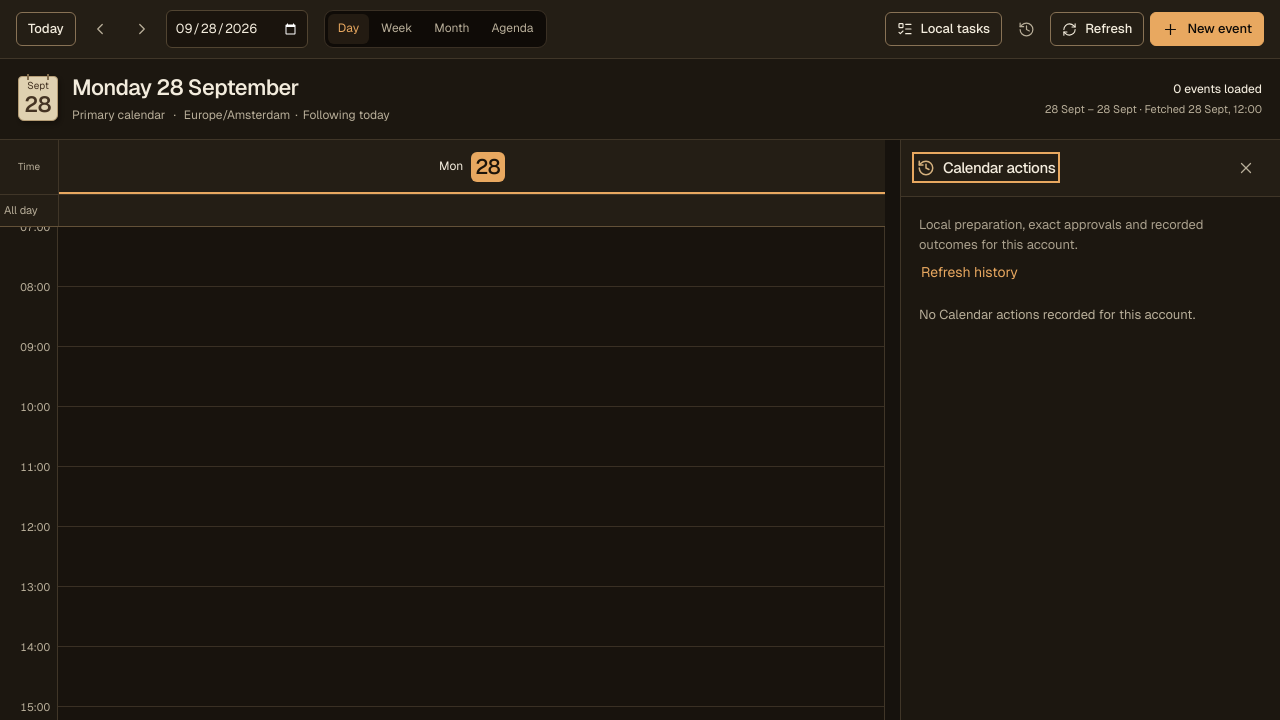
Scenario: initializes an unopened editor from fresh time, then retains its values on later opens
(page scrolled)
Click the button "New event" at (1207, 29), box [1150,12,1264,46]
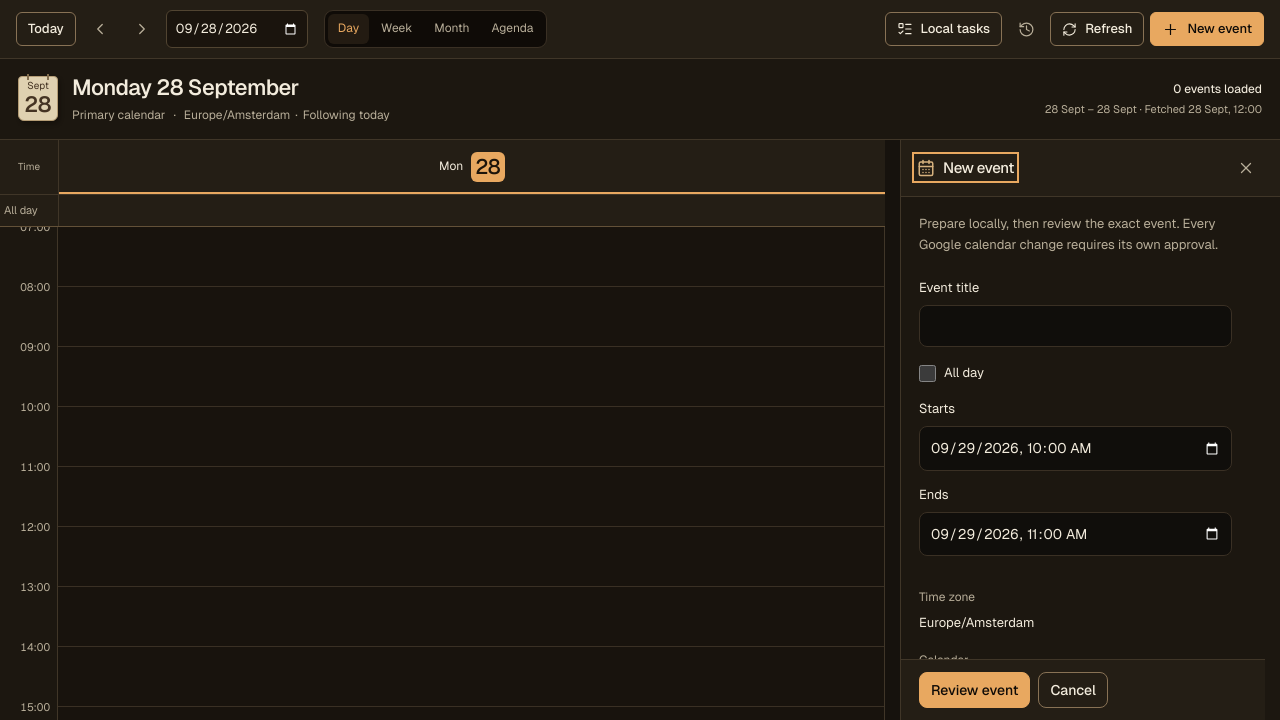
Now the field named "Event start" holds "2026-09-29T10:00", box [919,426,1232,471]
Click the button "Cancel" at (1073, 690), box [1038,672,1108,708]
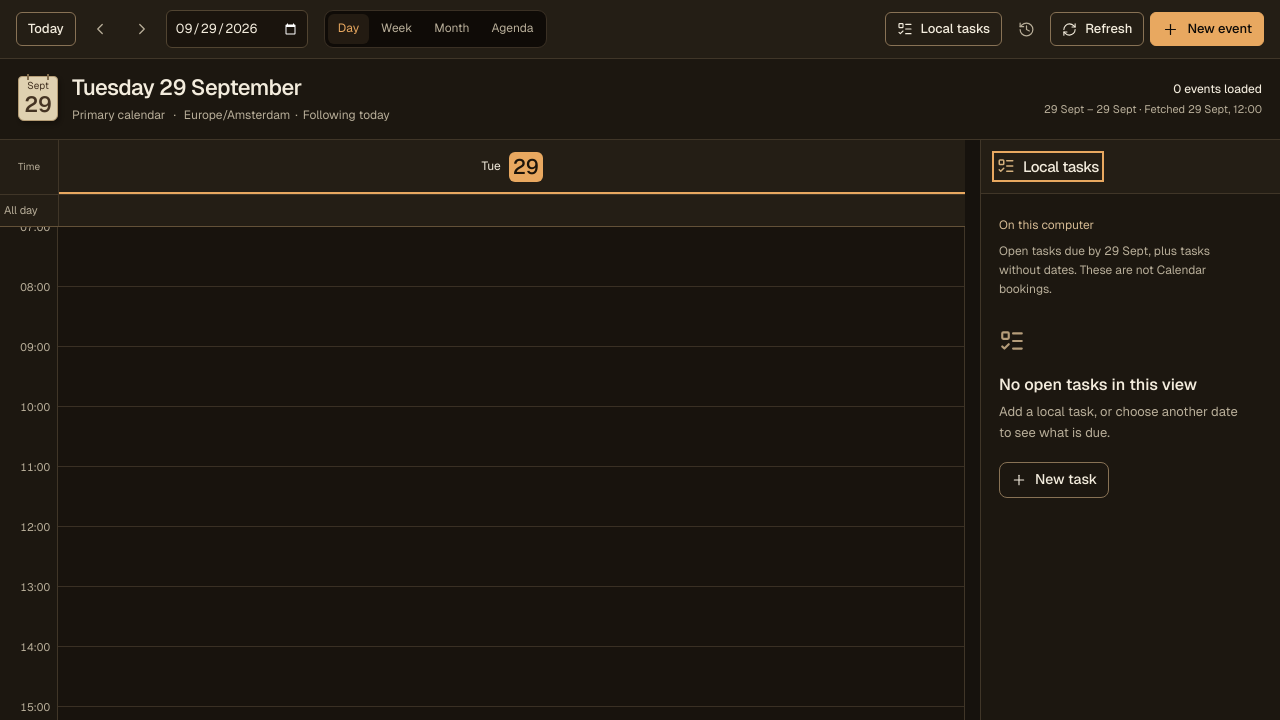
Click the button "New event" at (1207, 29), box [1150,12,1264,46]
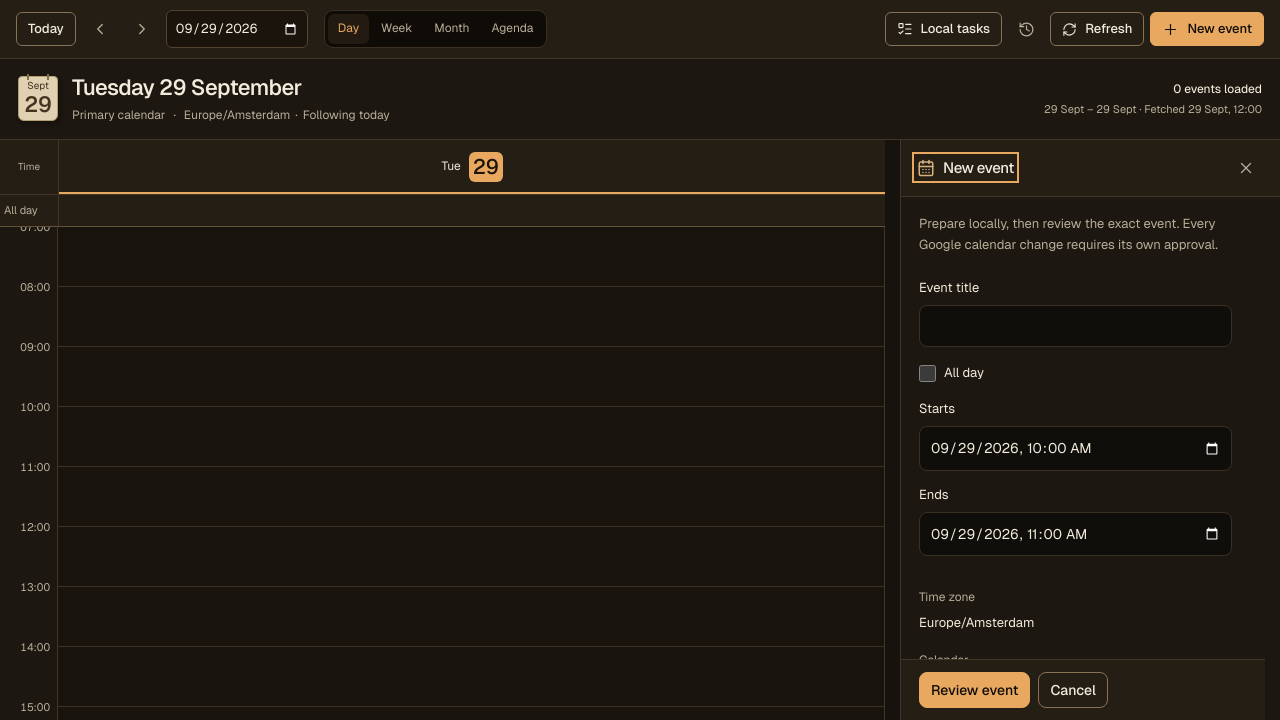
Now the field named "Event start" holds "2026-09-29T10:00", box [919,426,1232,471]
